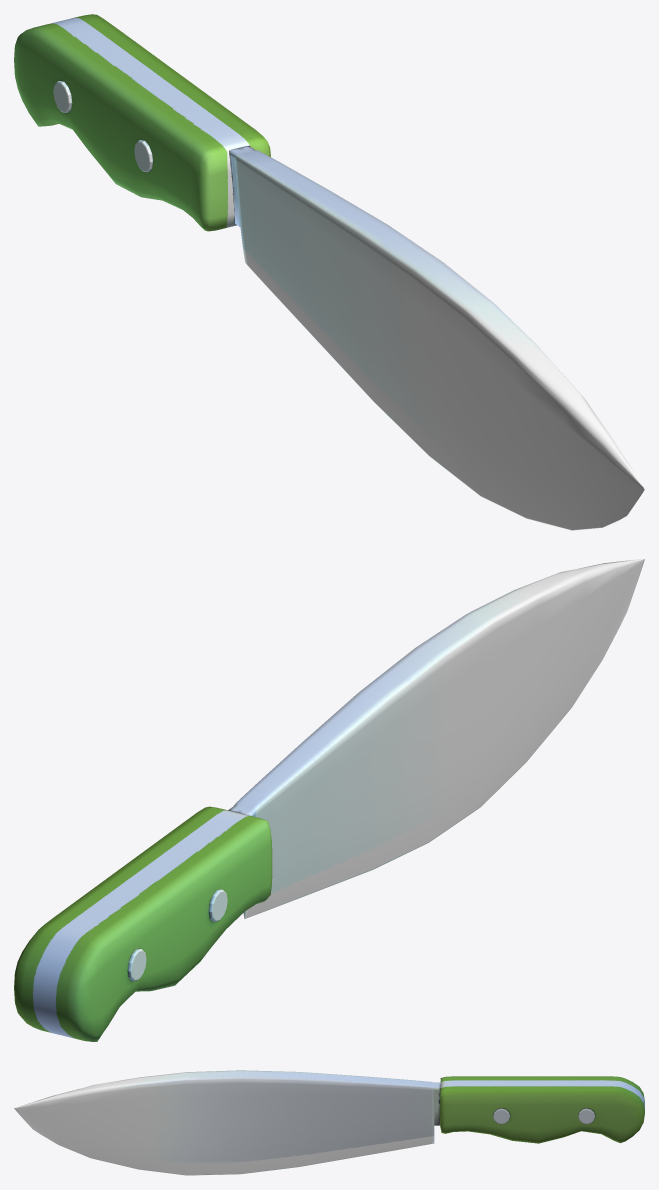
The model's file is Green_Knife_New_Pivot.fbx.
3 renders of one model, top to bottom at view 1: azimuth 30°, elevation 25°; view 2: azimuth 150°, elevation 25°; view 3: azimuth 270°, elevation 25°, orthographic. The views are drawn at different scales.
Visible parts, largest first — view 1: Knife.002, Knife.003; view 2: Knife.002, Knife.003; view 3: Knife.002, Knife.003.
Boxes of the visible parts, x1,y1,x2,y2 form: Knife.002: (229,145,644,530); Knife.003: (14,14,270,231); Knife.002: (228,559,644,918); Knife.003: (14,806,272,1041); Knife.002: (14,1070,440,1175); Knife.003: (439,1076,644,1143).
Size of the model in its own units: 0.0429 by 0.1014 by 0.5687.
